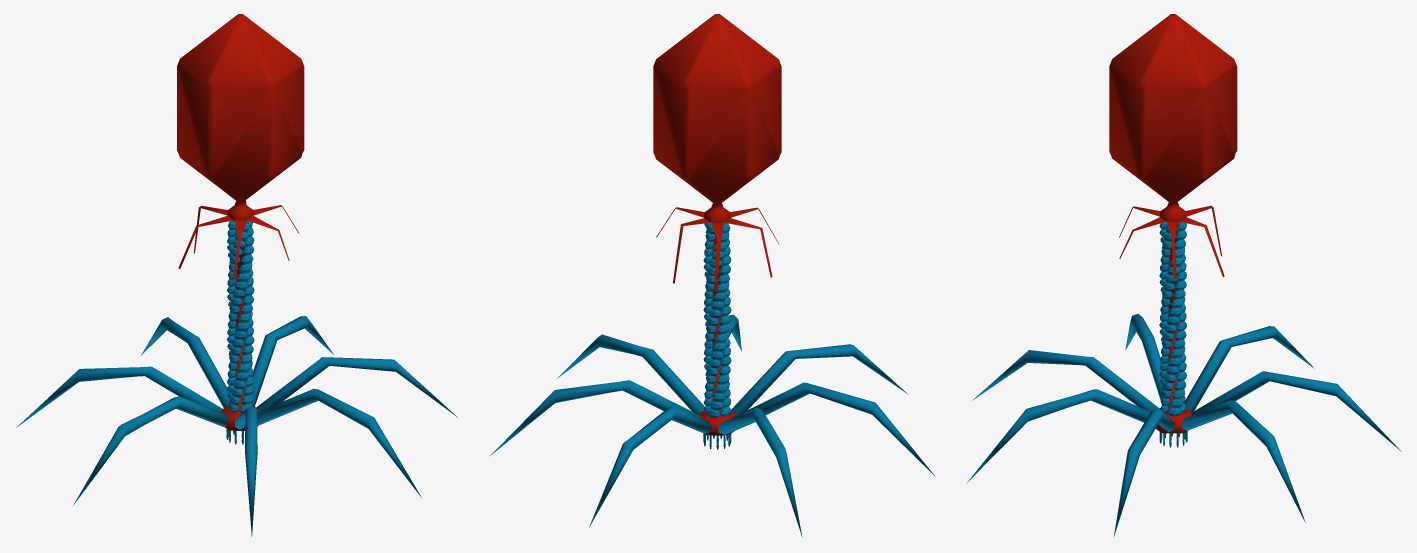
The model's file is Bacteriaphage_T2.fbx.
3 views of the same model, side by side, from view 1: azimuth 30°, elevation 25°; view 2: azimuth 150°, elevation 25°; view 3: azimuth 270°, elevation 25° (orthographic).
Visible parts, largest first — view 1: Cylinder.004, Cylinder.005, Cube.003; view 2: Cylinder.004, Cylinder.005, Cube.003; view 3: Cylinder.004, Cylinder.005, Cube.003.
Boxes of the visible parts, x1=… form: Cylinder.004: x1=177, y1=14, x2=304, y2=430; Cylinder.005: x1=16, y1=316, x2=457, y2=536; Cube.003: x1=227, y1=220, x2=254, y2=412; Cylinder.004: x1=653, y1=14, x2=781, y2=435; Cylinder.005: x1=489, y1=314, x2=934, y2=537; Cube.003: x1=703, y1=222, x2=731, y2=418; Cylinder.004: x1=1109, y1=14, x2=1237, y2=433; Cylinder.005: x1=966, y1=313, x2=1401, y2=537; Cube.003: x1=1159, y1=222, x2=1186, y2=416.
Size of the model in its own units: 694 by 742 by 684.
1 material, 1 textured.
